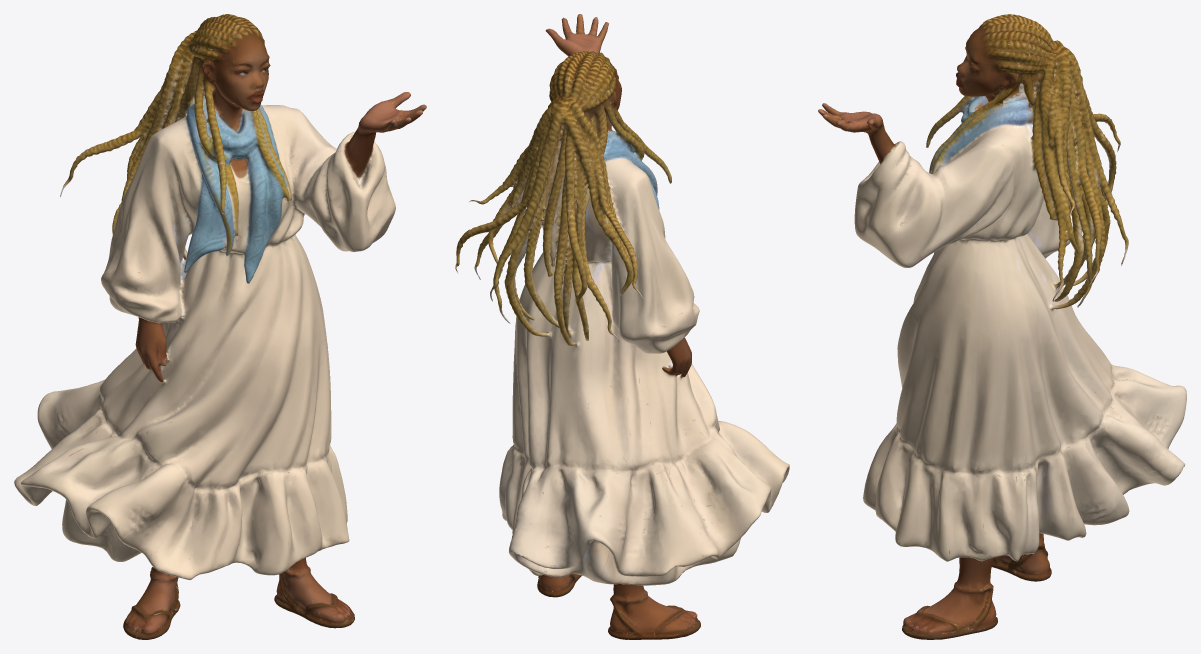
The model's file is scholar.glb.
The picture shows the model from 3 angles, left to right: view 1: azimuth 30°, elevation 25°; view 2: azimuth 150°, elevation 25°; view 3: azimuth 270°, elevation 25°; orthographic projection. The views are drawn at different scales.
Visible parts, largest first — view 1: Mesh1.0; view 2: Mesh1.0; view 3: Mesh1.0.
Part boxes in pixels (bbox=[...]): Mesh1.0: bbox=[14, 14, 426, 639]; Mesh1.0: bbox=[455, 14, 789, 639]; Mesh1.0: bbox=[818, 14, 1186, 639].
Bounding box in the file's own units: 1.05 × 1.91 × 1.09.
Materials: 1 (1 with a texture image).
